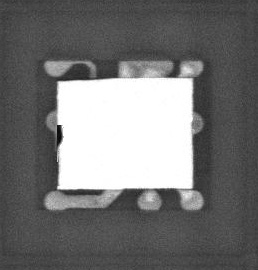DIE_BROKEN: (54, 122, 64, 151)
